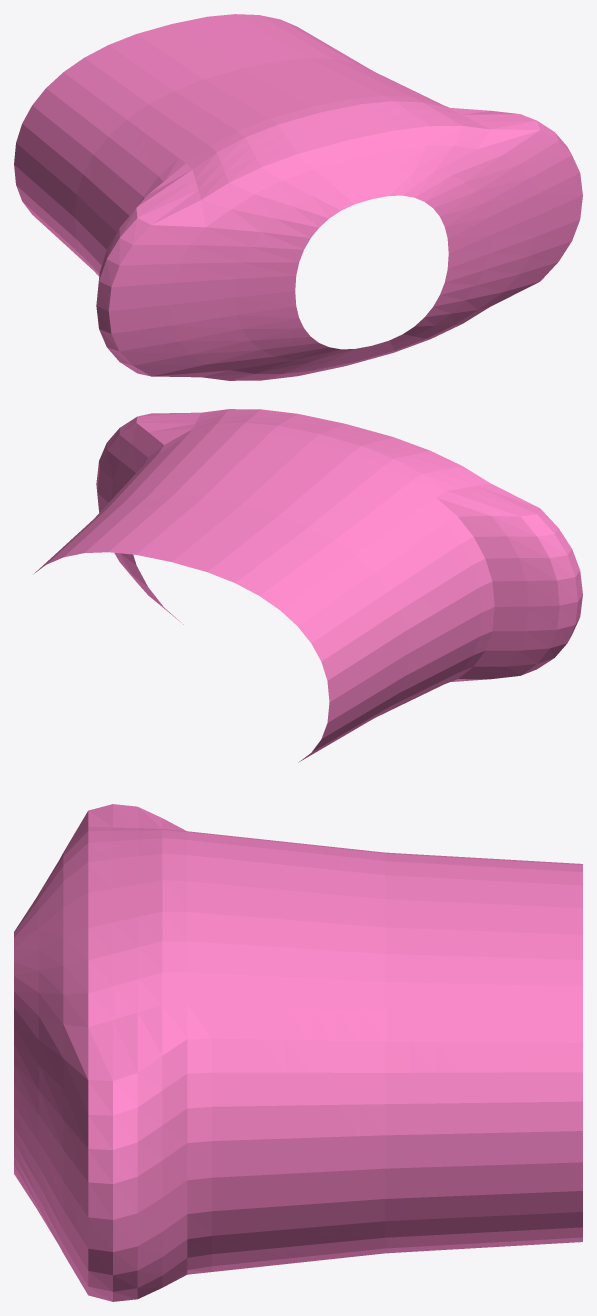
File: TSH-WW-CREW-001.glb
3 views of the same model, one above another, from view 1: azimuth 30°, elevation 25°; view 2: azimuth 150°, elevation 25°; view 3: azimuth 270°, elevation 25° (orthographic). The views are drawn at different scales.
Visible parts, largest first — view 1: geometry_0; view 2: geometry_0; view 3: geometry_0.
Boxes of the visible parts, <box> form: geometry_0: <box>14,14,582,380</box>; geometry_0: <box>34,409,582,762</box>; geometry_0: <box>14,804,582,1301</box>.
Size of the model in its own units: 0.722 by 0.3484 by 0.52.
